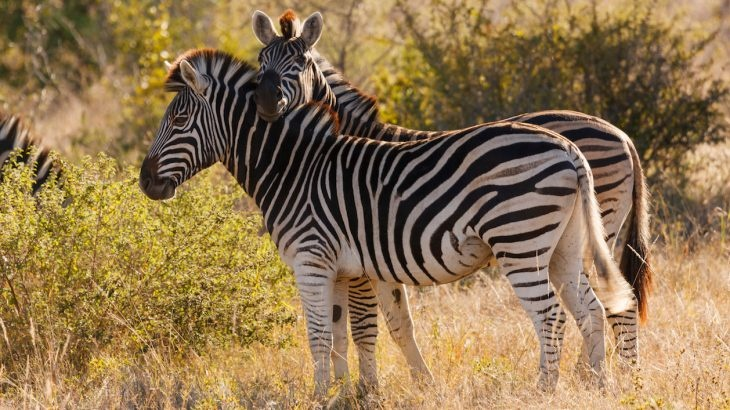zebra: (134, 44, 614, 399), (242, 7, 651, 376)
